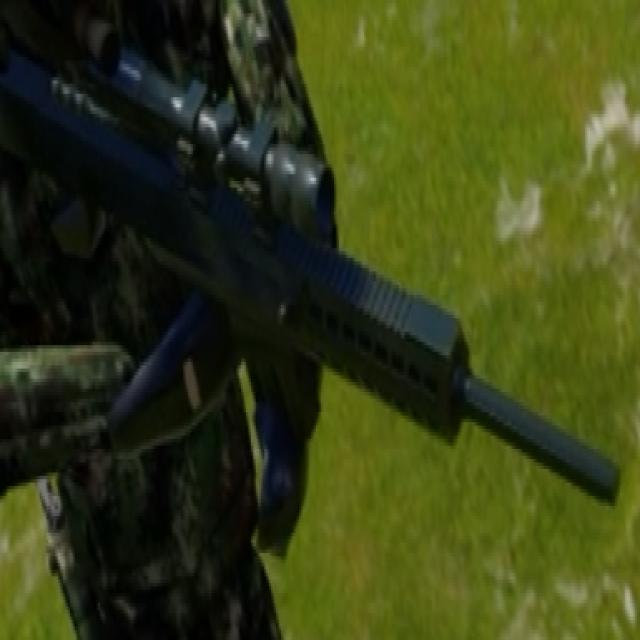RifleTel: (1, 27, 625, 538)
